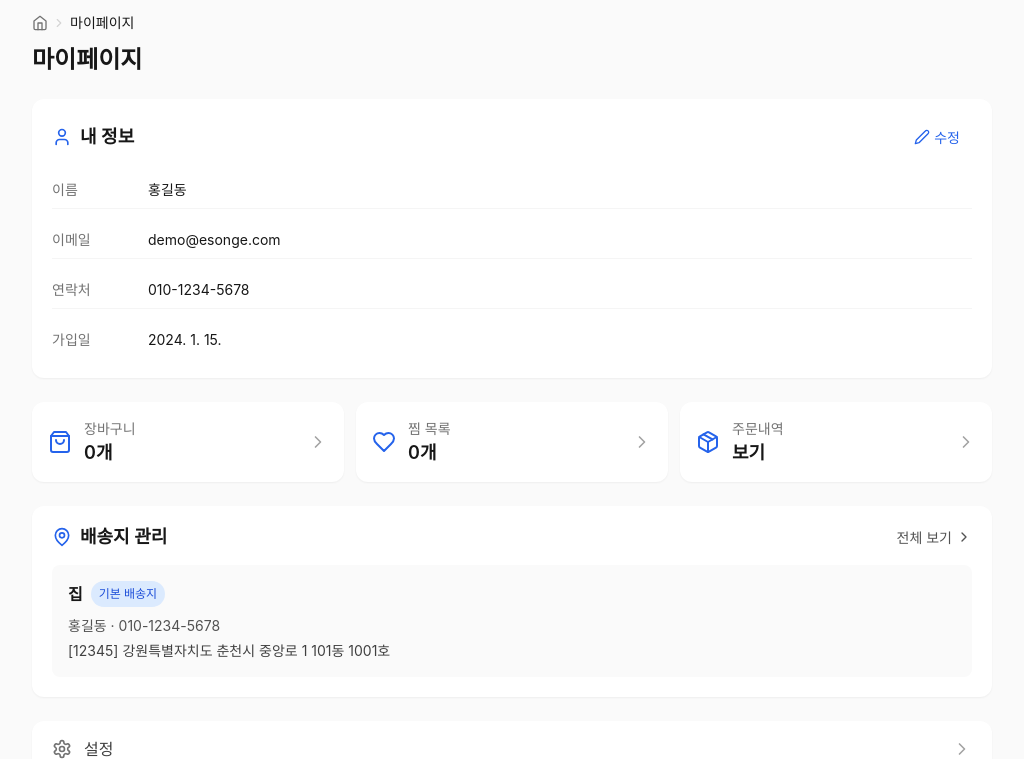
it: MyPage › profile editing › should show edit form when edit button is clicked
Click the button "수정" at (937,137), box [902,119,972,155]
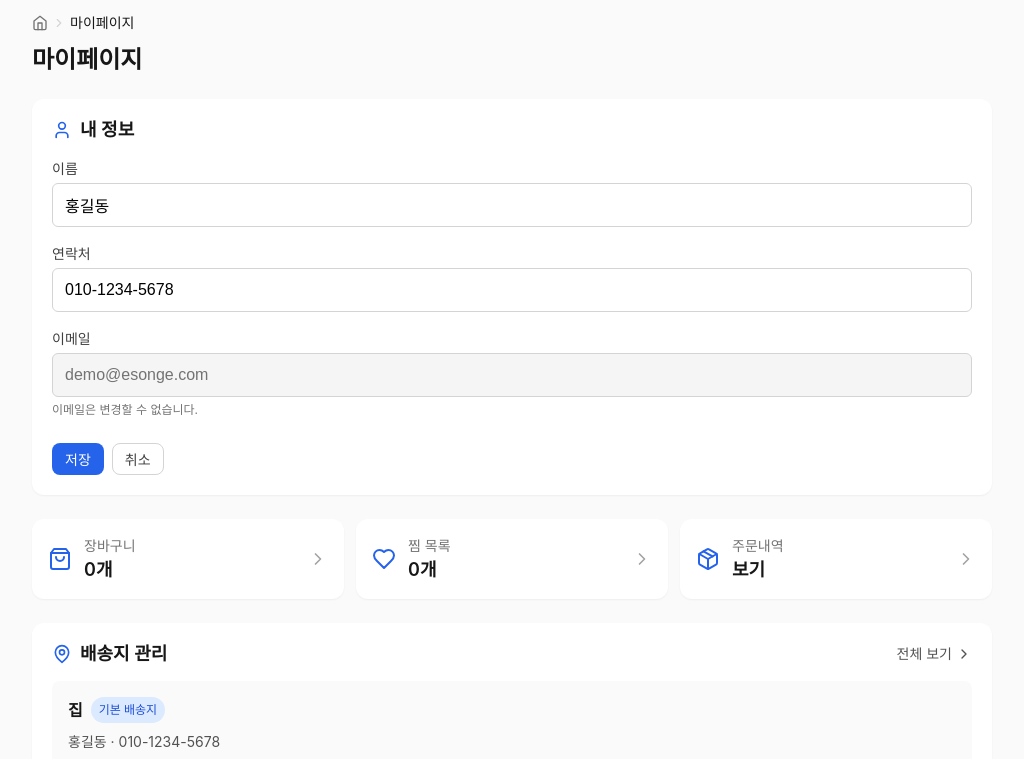
Expected: the field showing "홍길동" below "이름" is shown, [52,182,972,226]
Expected: the field showing "010-1234-5678" below "연락처" is shown, [52,268,972,312]
Expected: the button "저장" is shown, [52,442,104,474]
